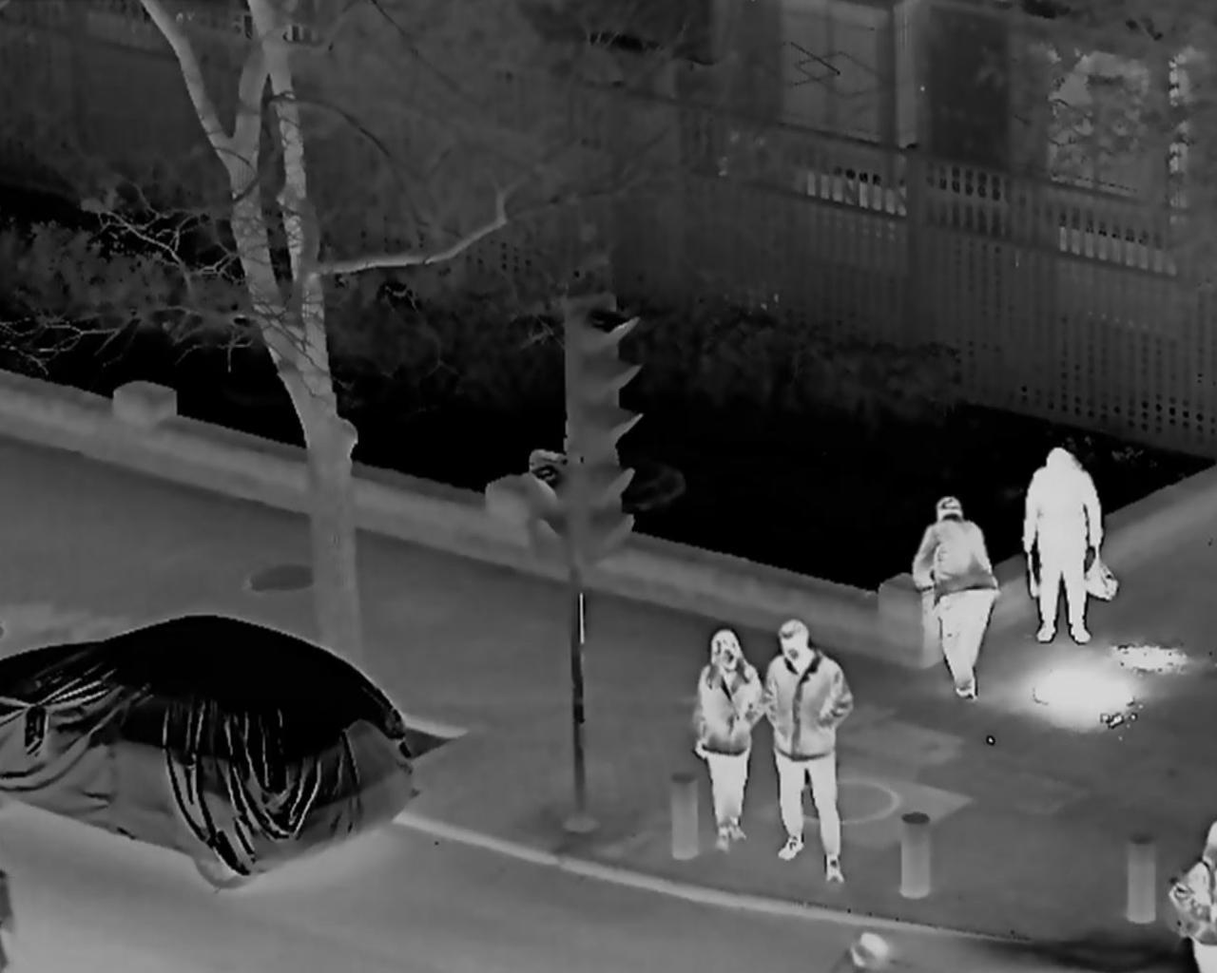person: (763, 622, 852, 890), (1016, 448, 1108, 645), (915, 497, 997, 699), (694, 629, 766, 850)
